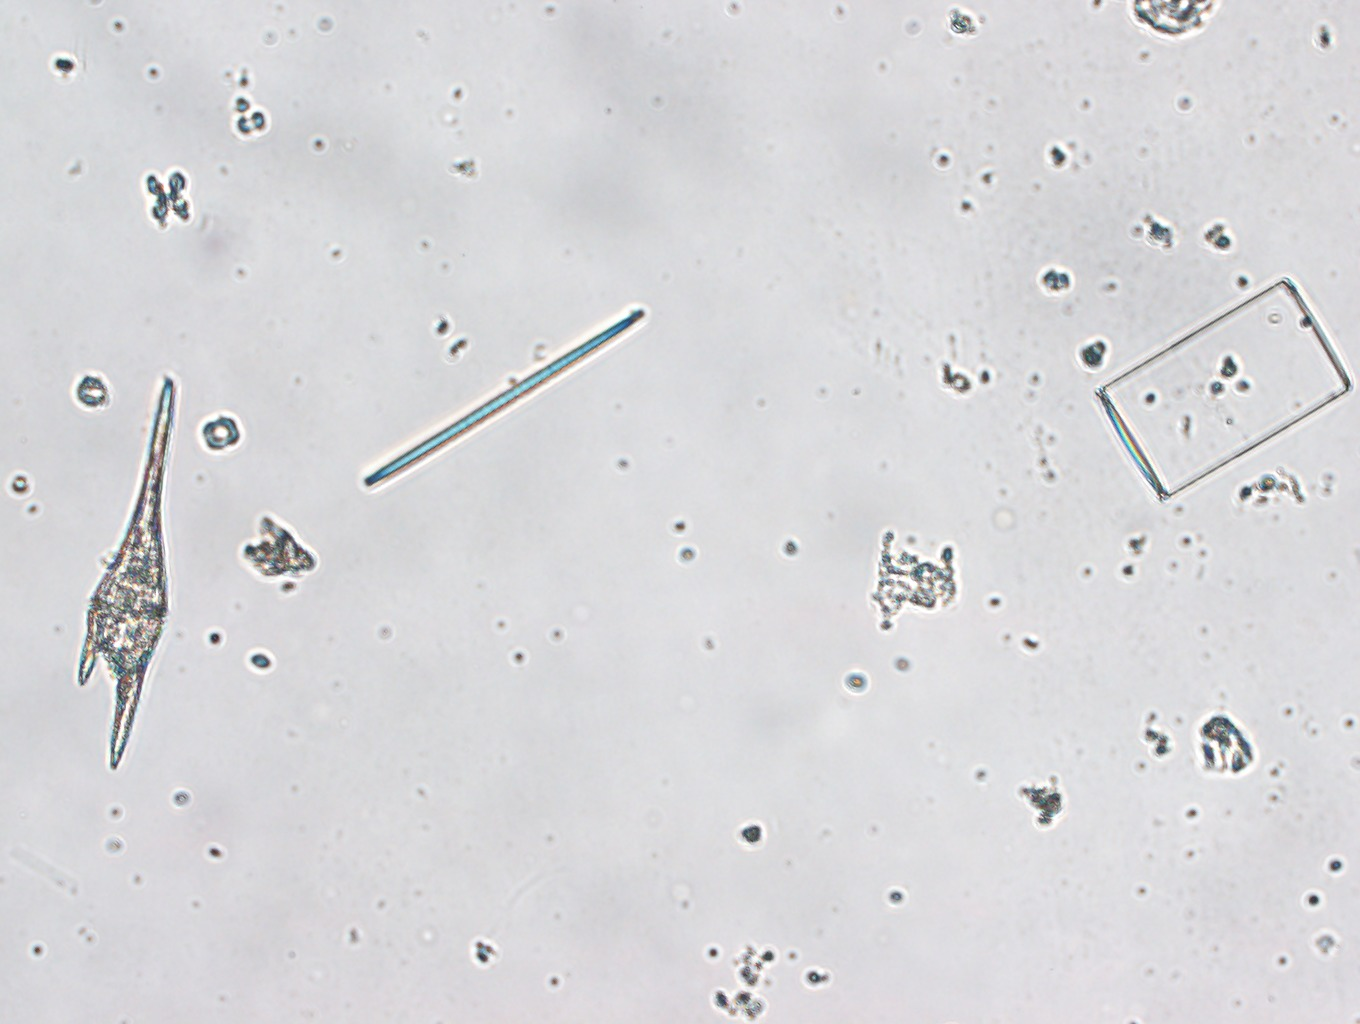ceratium furca: (71, 371, 187, 776)
guinardia flaccida: (1086, 275, 1356, 504)
